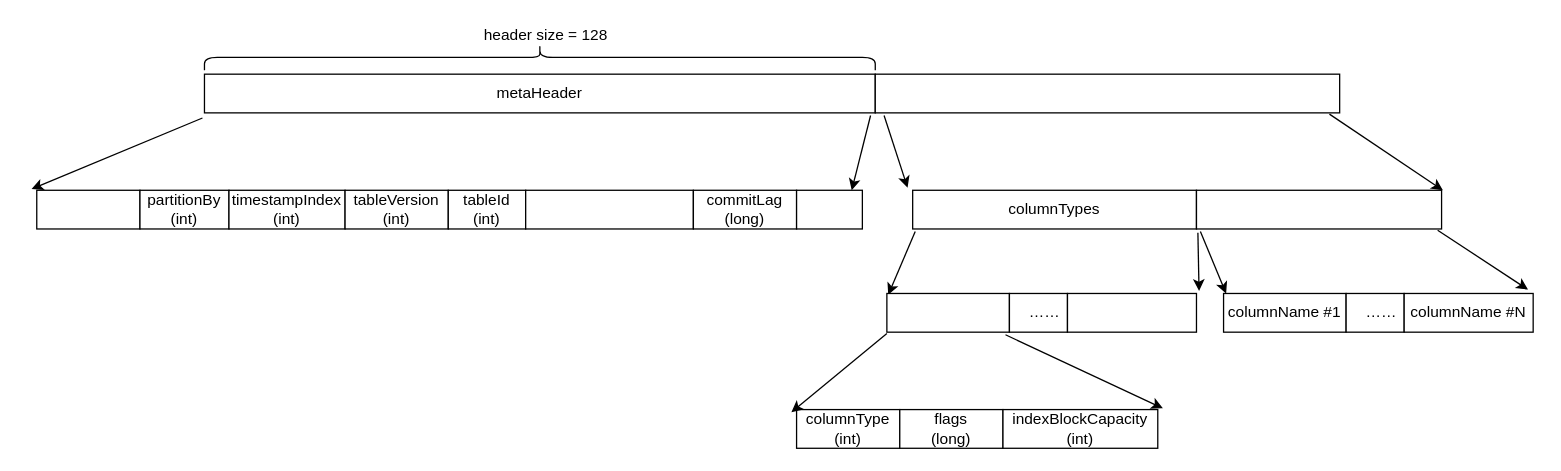
Some shapes in this 1561 by 471 pixel diagram are drawn without their labels. The shapes that lost their labels are listed below. From the top down, each one's centre as x and y in pixels, then its label:
pixel 1107 93: columnMeta
pixel 87 209: columnCount (int)
pixel 608 209: maxUncommittedRows (int)
pixel 828 209: padding
pixel 1318 209: columnNames
pixel 947 312: columnType #1
pixel 1131 312: columnType #N
